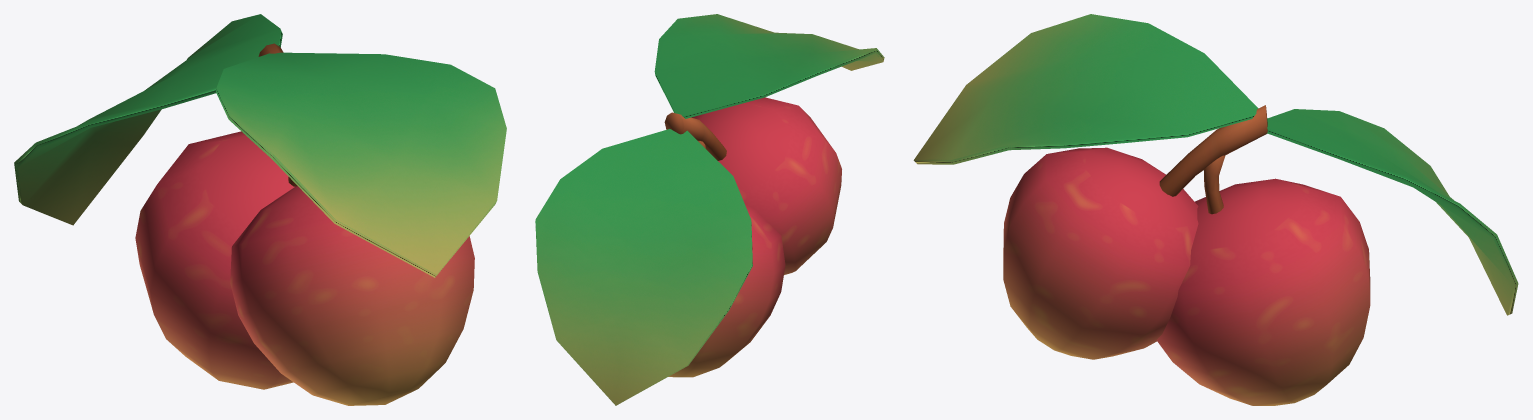
Rendered from Lychee_Model.fbx.
3 renders of one model, left to right at view 1: azimuth 30°, elevation 25°; view 2: azimuth 150°, elevation 25°; view 3: azimuth 270°, elevation 25°, orthographic. The views are drawn at different scales.
Visible parts, largest first — view 1: leaf_2, fruit_small, fruit_large, leaf_1; view 2: leaf_1, fruit_small, leaf_2, fruit_large, stem_large; view 3: fruit_large, fruit_small, leaf_2, leaf_1, stem_large, stem_small.
Part boxes in pixels (<box>): leaf_2: <box>216,52,506,277</box>; fruit_small: <box>230,186,474,405</box>; fruit_large: <box>135,131,294,389</box>; leaf_1: <box>14,14,282,225</box>; leaf_1: <box>535,129,752,405</box>; fruit_small: <box>691,97,841,274</box>; leaf_2: <box>654,14,884,118</box>; fruit_large: <box>668,204,785,377</box>; stem_large: <box>664,112,726,160</box>; fruit_large: <box>1156,178,1370,405</box>; fruit_small: <box>1003,147,1198,359</box>; leaf_2: <box>913,14,1258,164</box>; leaf_1: <box>1266,109,1518,315</box>; stem_large: <box>1159,105,1267,196</box>; stem_small: <box>1204,155,1225,214</box>.
Size of the model in its own units: 0.6419 by 1.37 by 0.8131.
Materials: 1 (1 with a texture image).
